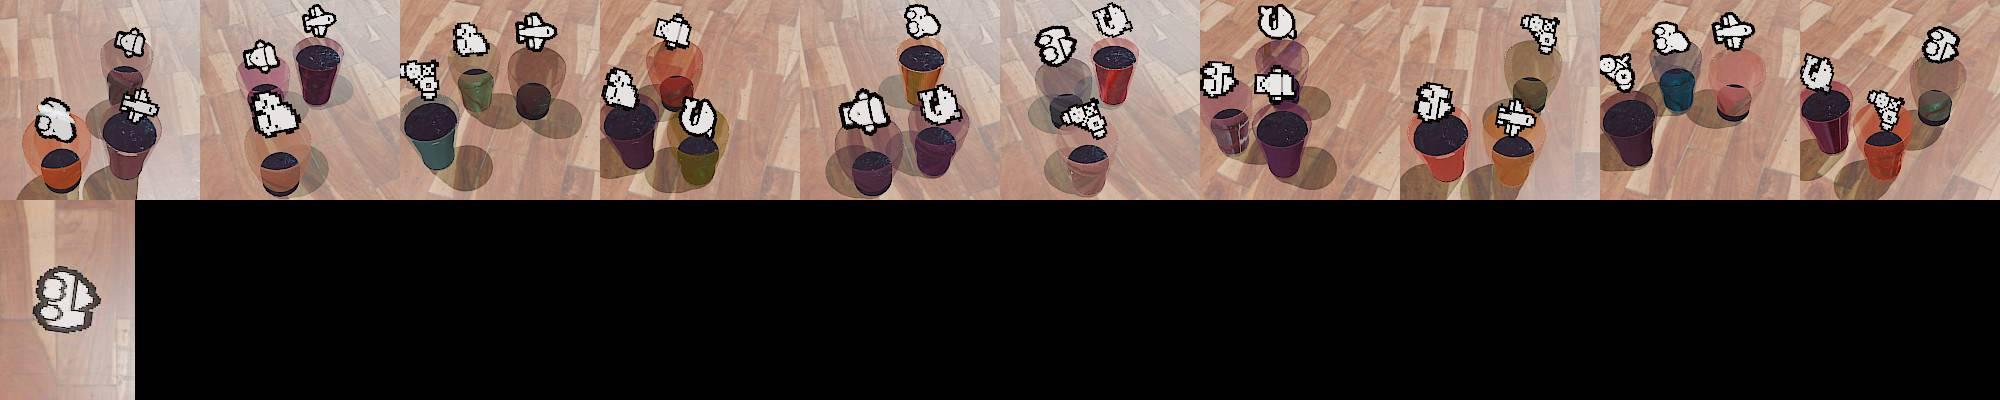icon: (31, 265, 101, 335), (249, 87, 304, 138), (839, 88, 893, 135), (1060, 96, 1108, 140), (34, 97, 78, 144), (917, 83, 963, 126), (1492, 96, 1540, 138), (1034, 24, 1078, 69), (1413, 80, 1457, 124), (1519, 11, 1561, 55), (1710, 11, 1756, 51), (515, 10, 557, 52), (401, 57, 441, 99), (1866, 88, 1906, 131), (1253, 65, 1297, 103), (653, 10, 694, 51), (602, 66, 640, 110), (679, 96, 717, 138), (119, 87, 159, 125), (452, 19, 491, 57), (1258, 4, 1297, 42), (1092, 3, 1133, 39), (1652, 19, 1693, 56), (1599, 51, 1636, 92), (1922, 25, 1960, 64), (1798, 54, 1835, 93), (241, 38, 281, 74), (1200, 60, 1237, 97), (904, 4, 941, 39), (300, 4, 337, 38), (114, 27, 147, 59)
